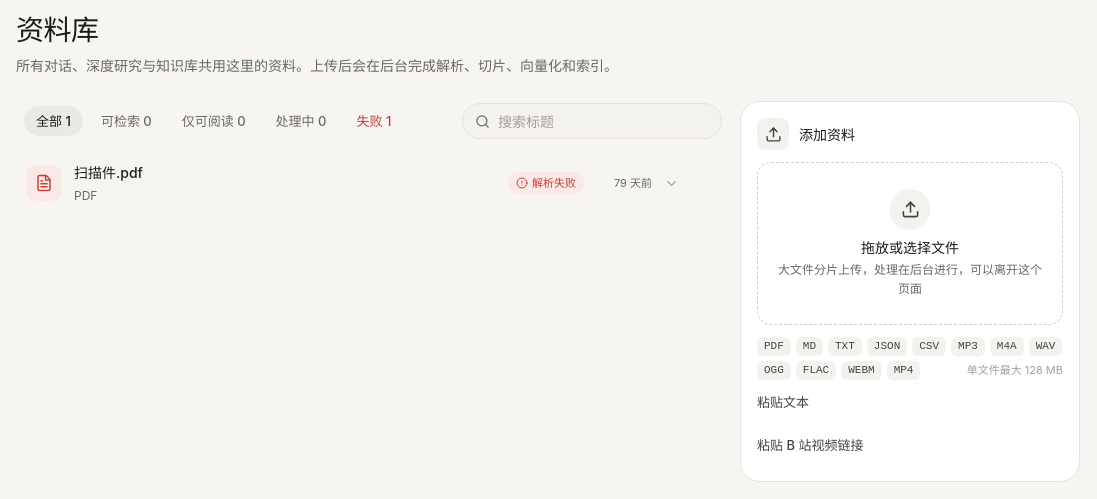
Test: SourceLibraryWorkbench › restarts a failed parse from the parse stage
Click the button "扫描件.pdf PDF 解析失败 79 天前" at (44, 183), box [16,154,684,214]
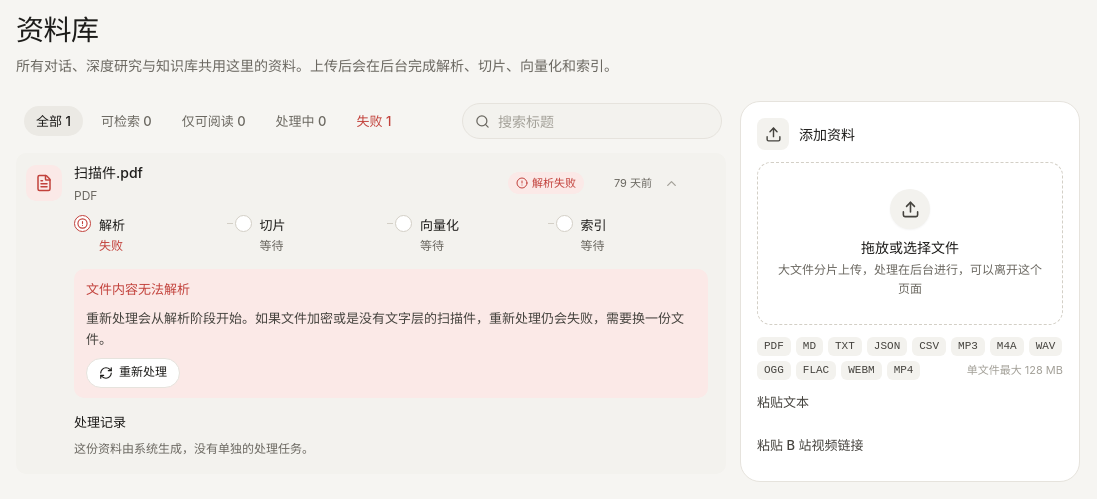
Result: the text "重新处理会从解析阶段开始。如果文件加密或是没有文字层的扫描件，重新处理仍会失败，需要换一份文件。" is shown at [86,308,696,350]
Click the button "重新处理" at (133, 373), box [86,358,180,388]
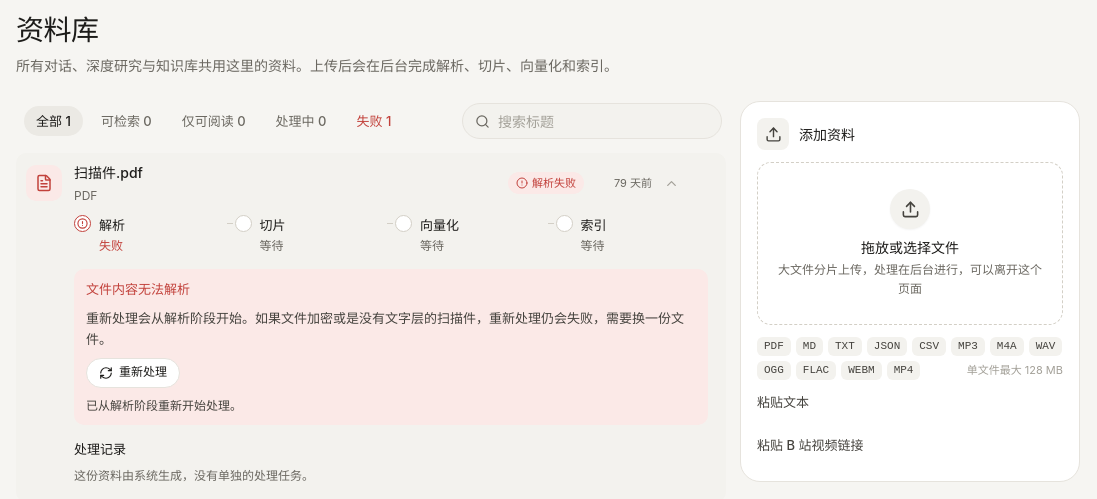
Result: the text "已从解析阶段重新开始处理。" is shown at [86,396,242,415]
